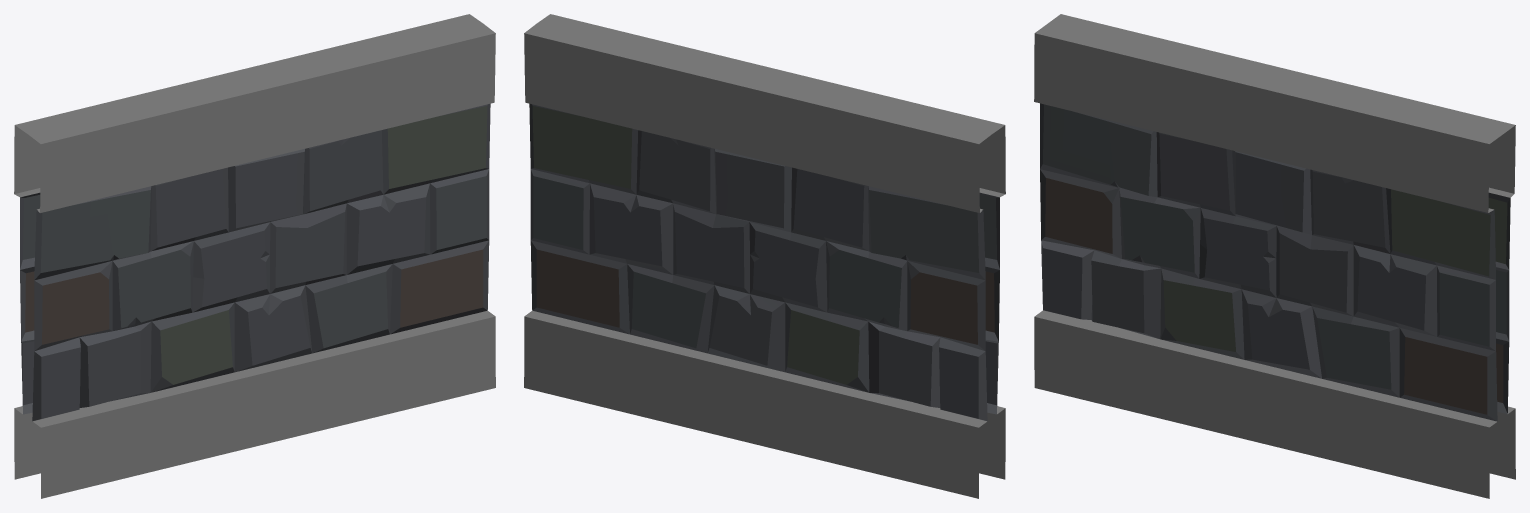
File: wall.glb
3 views of the same model, side by side, from view 1: azimuth 30°, elevation 25°; view 2: azimuth 150°, elevation 25°; view 3: azimuth 330°, elevation 25° (orthographic).
Parts seen in each view (by area): view 1: Wall; view 2: Wall; view 3: Wall.
Part boxes in pixels (x1,y1,x2,y2): Wall: (14,14,495,498); Wall: (524,14,1005,498); Wall: (1034,14,1515,498).
Size of the model in its own units: 4.01 by 2.98 by 0.4082.
1 material, 1 textured.
